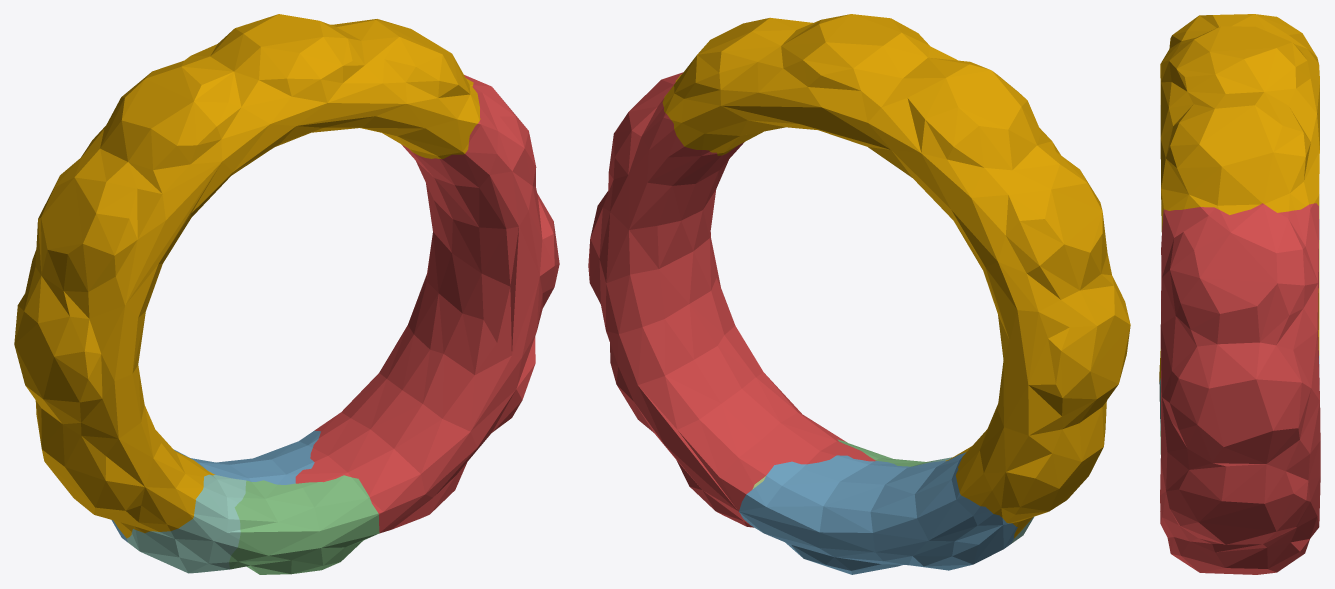
Rendered from mode_13_6pcs.glb.
3 views of the same model, side by side, from view 1: azimuth 30°, elevation 25°; view 2: azimuth 150°, elevation 25°; view 3: azimuth 270°, elevation 25° (orthographic). The views are drawn at different scales.
Visible parts, largest first — view 1: piece_0.obj, piece_1.obj, piece_3.obj, piece_4.obj, piece_2.obj; view 2: piece_0.obj, piece_1.obj, piece_2.obj; view 3: piece_1.obj, piece_0.obj.
Part boxes in pixels (x1,y1,x2,y2): piece_0.obj: [14, 14, 480, 538]; piece_1.obj: [295, 75, 559, 533]; piece_3.obj: [229, 475, 379, 574]; piece_4.obj: [127, 474, 246, 573]; piece_2.obj: [111, 430, 320, 542]; piece_0.obj: [662, 14, 1130, 538]; piece_1.obj: [588, 72, 876, 527]; piece_2.obj: [739, 452, 1017, 574]; piece_1.obj: [1160, 203, 1320, 574]; piece_0.obj: [1159, 14, 1319, 381].
Bounding box in the file's own units: 0.9998 × 1 × 0.2896.
